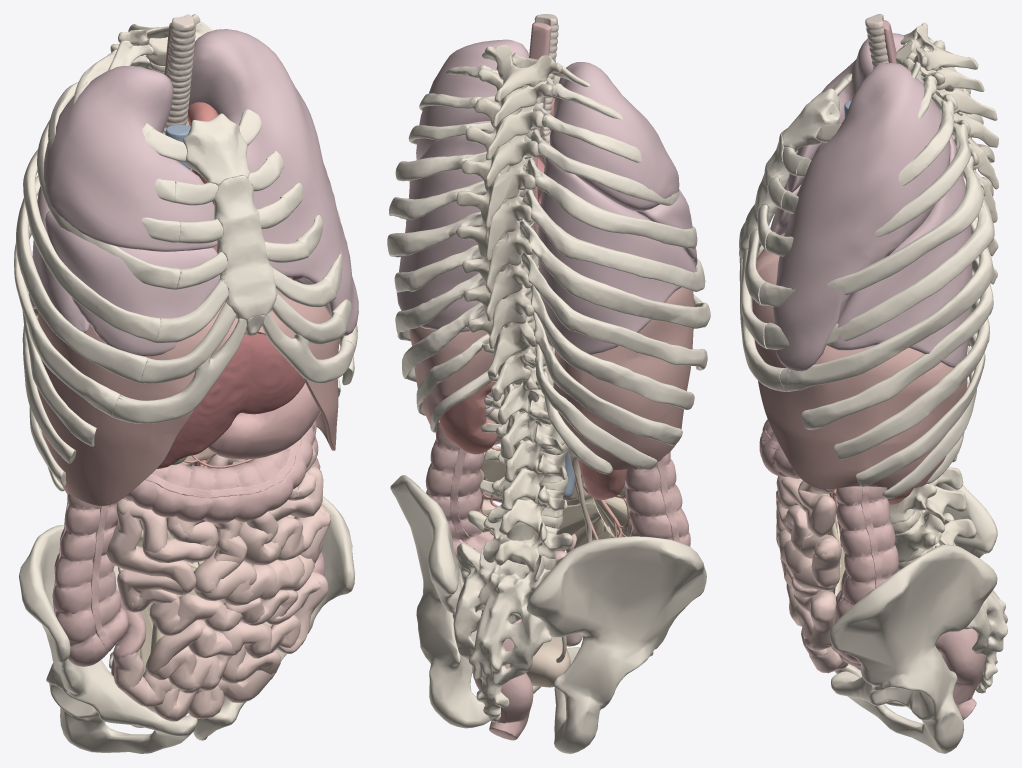
Rendered from bodyparts3d-torso.glb.
The picture shows the model from 3 angles, left to right: view 1: azimuth 30°, elevation 25°; view 2: azimuth 150°, elevation 25°; view 3: azimuth 270°, elevation 25°; orthographic projection. The views are drawn at different scales.
Visible parts, largest first — view 1: rib-cage, small-intestine, right-lung, colon, left-lung, pelvis, diaphragm, liver, stomach, trachea, spine, mesentery (+1 smaller); view 2: rib-cage, pelvis, spine, right-lung, colon, left-lung, diaphragm, mesentery, left-kidney, urinary-bladder, right-kidney, esophagus (+3 smaller); view 3: rib-cage, left-lung, pelvis, diaphragm, spine, colon, small-intestine, right-lung, trachea.
Part boxes in pixels (x1,y1,x2,y2): rib-cage: (14, 21, 357, 491); small-intestine: (106, 446, 330, 721); right-lung: (28, 65, 219, 356); colon: (52, 420, 325, 727); left-lung: (188, 29, 358, 335); pelvis: (19, 496, 355, 753); diaphragm: (37, 280, 339, 506); liver: (157, 333, 305, 468); stomach: (207, 383, 320, 459); trachea: (164, 14, 195, 130); spine: (110, 14, 200, 564); mesentery: (137, 461, 295, 675); rib-cage: (387, 52, 710, 474); pelvis: (390, 475, 706, 753); spine: (456, 45, 573, 572); right-lung: (538, 62, 697, 354); colon: (425, 383, 690, 740); left-lung: (396, 39, 528, 333); diaphragm: (409, 287, 694, 470); mesentery: (481, 435, 627, 565); left-kidney: (439, 381, 497, 454); urinary-bladder: (526, 636, 570, 687); right-kidney: (578, 459, 627, 499); esophagus: (529, 22, 551, 234); rib-cage: (739, 28, 994, 498); left-lung: (773, 63, 972, 371); pelvis: (830, 483, 1007, 753); diaphragm: (752, 233, 967, 489); spine: (889, 22, 998, 571); colon: (759, 419, 985, 719); small-intestine: (776, 476, 848, 673); right-lung: (770, 33, 903, 234); trachea: (865, 14, 888, 68).
Size of the model in its own units: 290 by 643 by 221.
